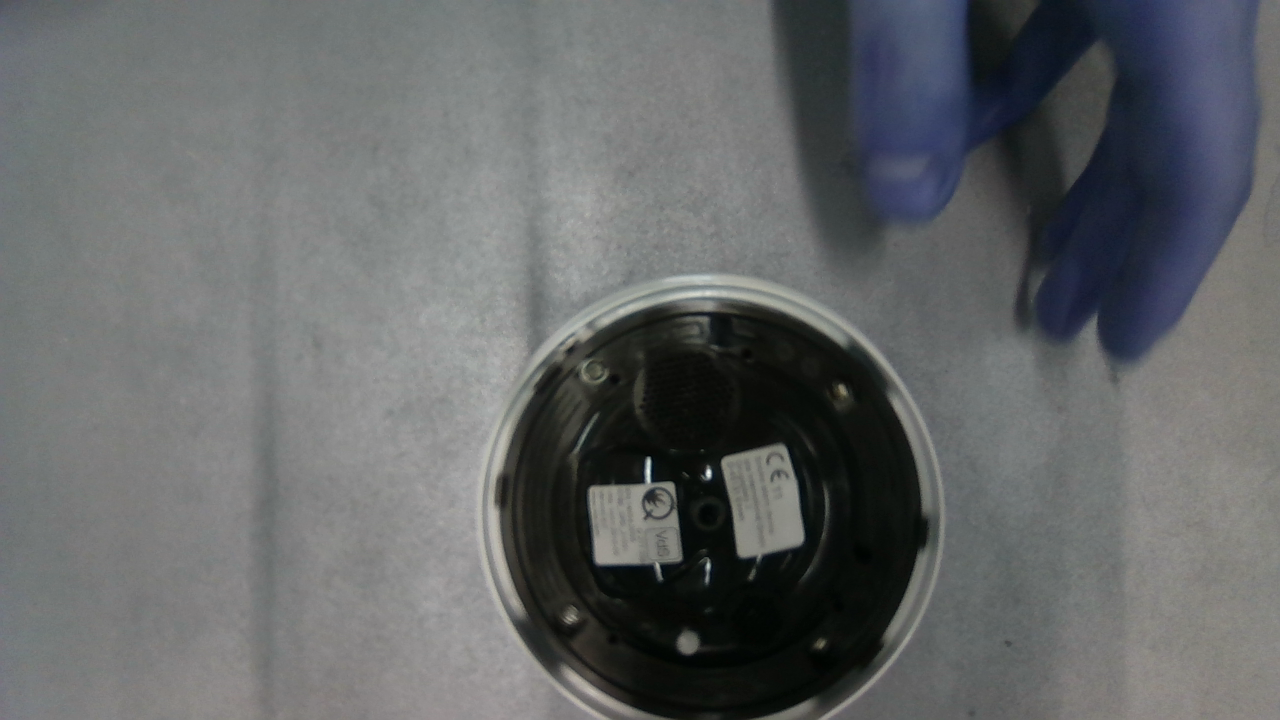HexScrew: (577, 360, 610, 385), (826, 381, 851, 412), (557, 605, 583, 633), (806, 633, 833, 658)
